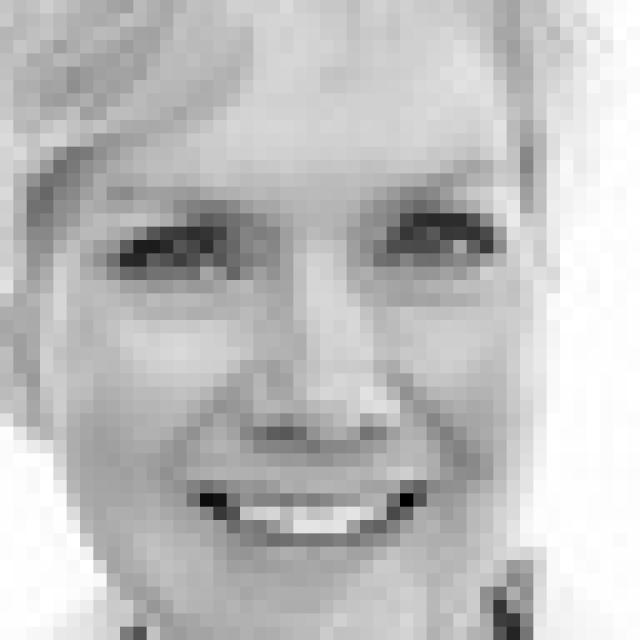happy: (84, 161, 519, 590)
